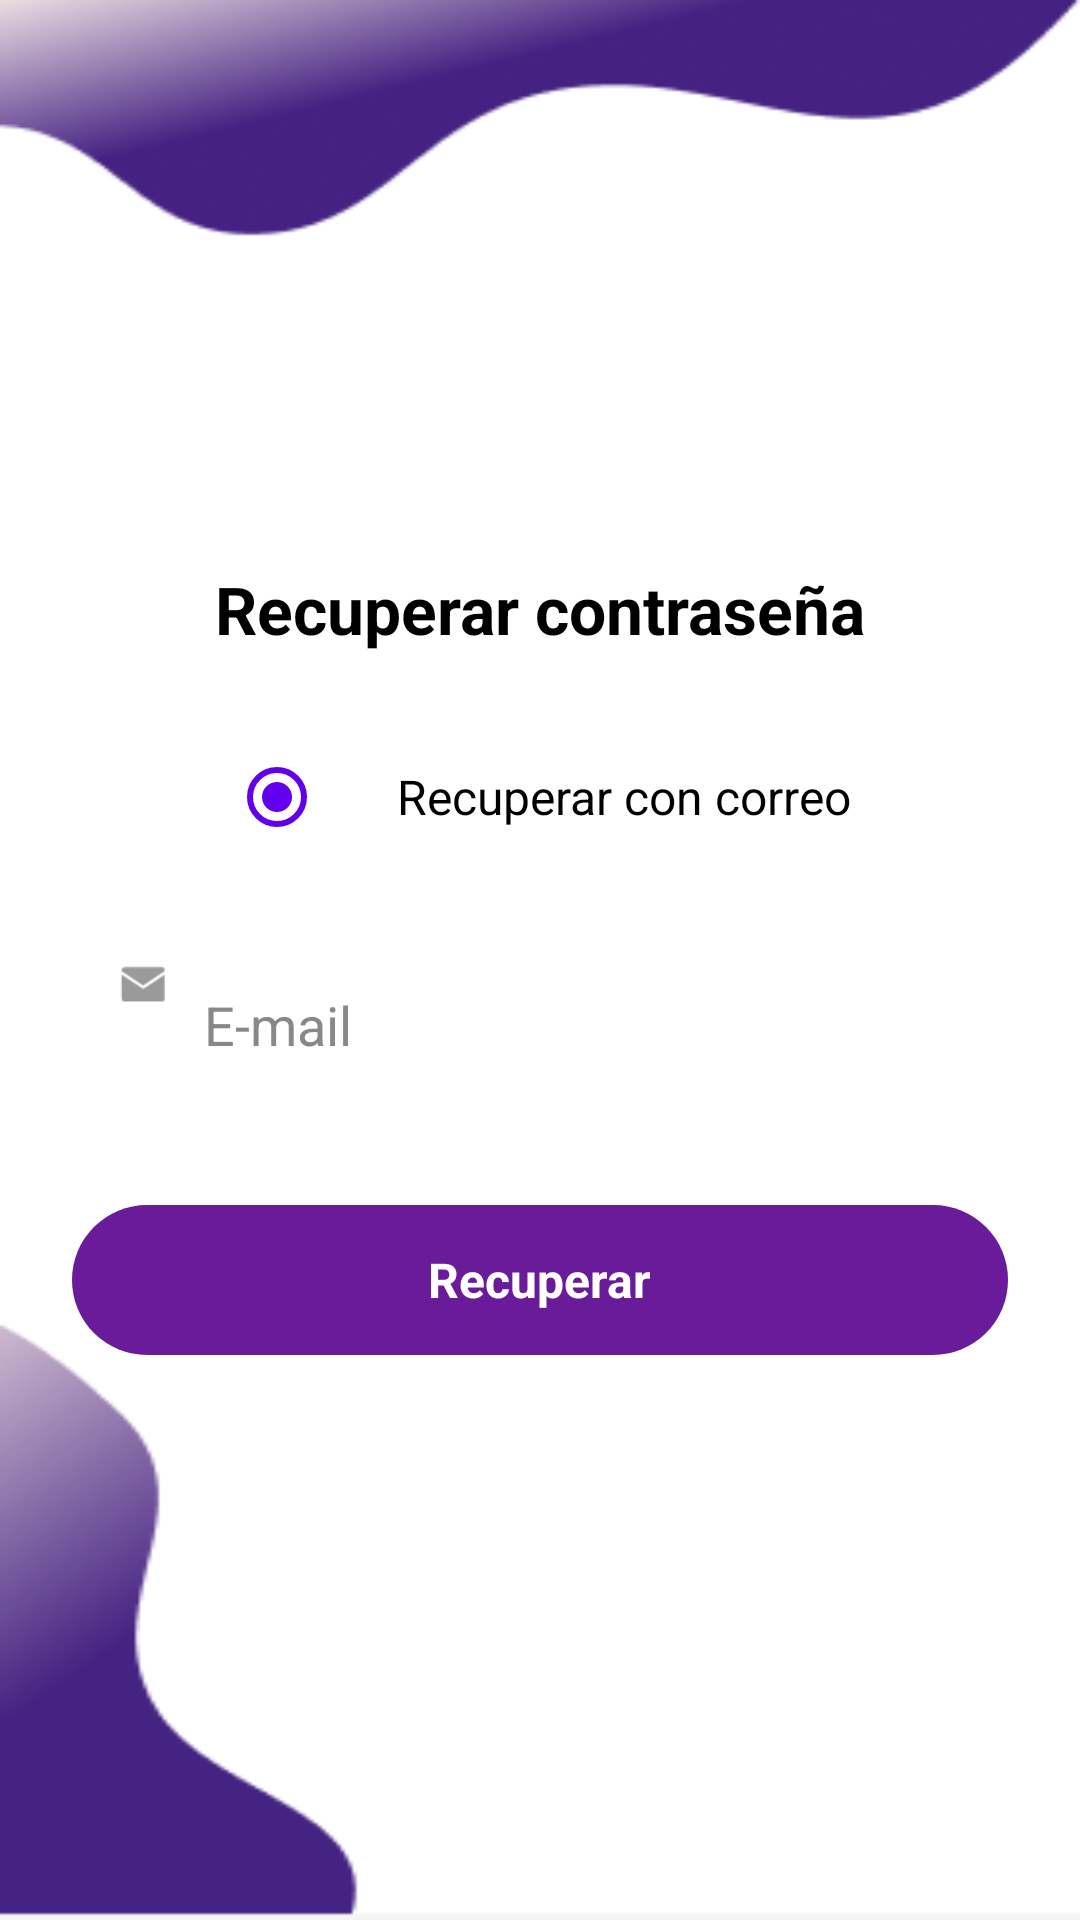

Point at icon controls on the screen. Image size 1080*1920, points as (x,y).
Ícono de correo electrónico: (143,984)
